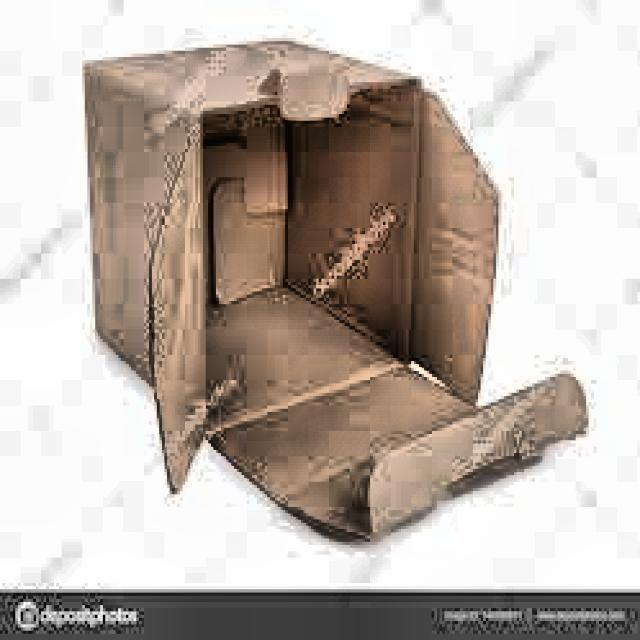cardboard: (80, 35, 588, 542)
